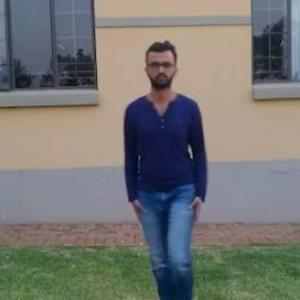follow: (120, 43, 204, 299)
